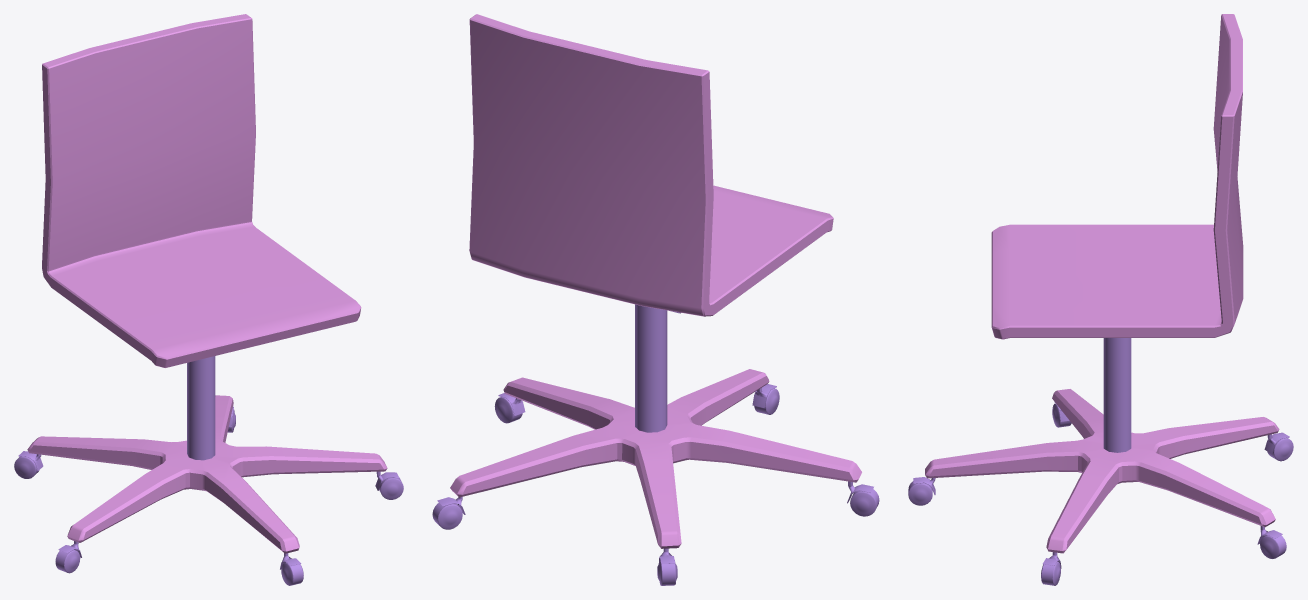
The model's file is chairA.fbx.
3 renders of one model, left to right at view 1: azimuth 30°, elevation 25°; view 2: azimuth 150°, elevation 25°; view 3: azimuth 270°, elevation 25°, orthographic. The views are drawn at different scales.
Visible parts, largest first — view 1: chairA; view 2: chairA; view 3: chairA.
Boxes of the visible parts, bbox=[...] form: chairA: bbox=[14, 14, 403, 585]; chairA: bbox=[432, 14, 879, 585]; chairA: bbox=[908, 14, 1293, 585].
Bounding box in the file's own units: 78.87 × 95.64 × 75.7.
